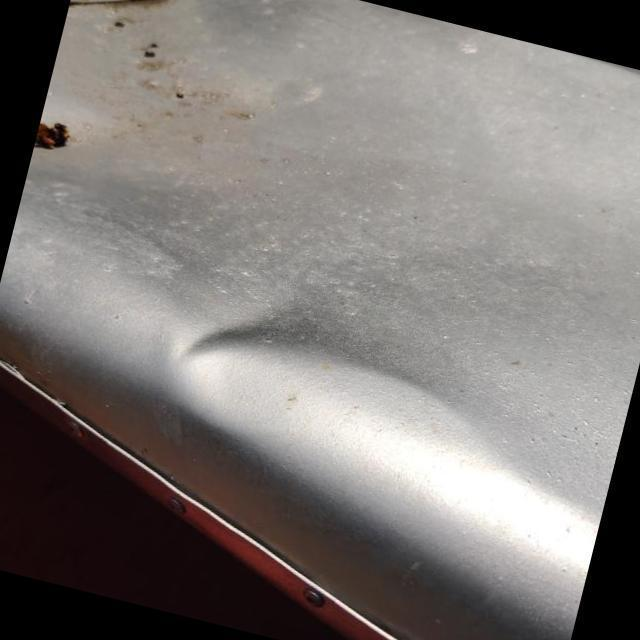Dent: (150, 246, 352, 417)
